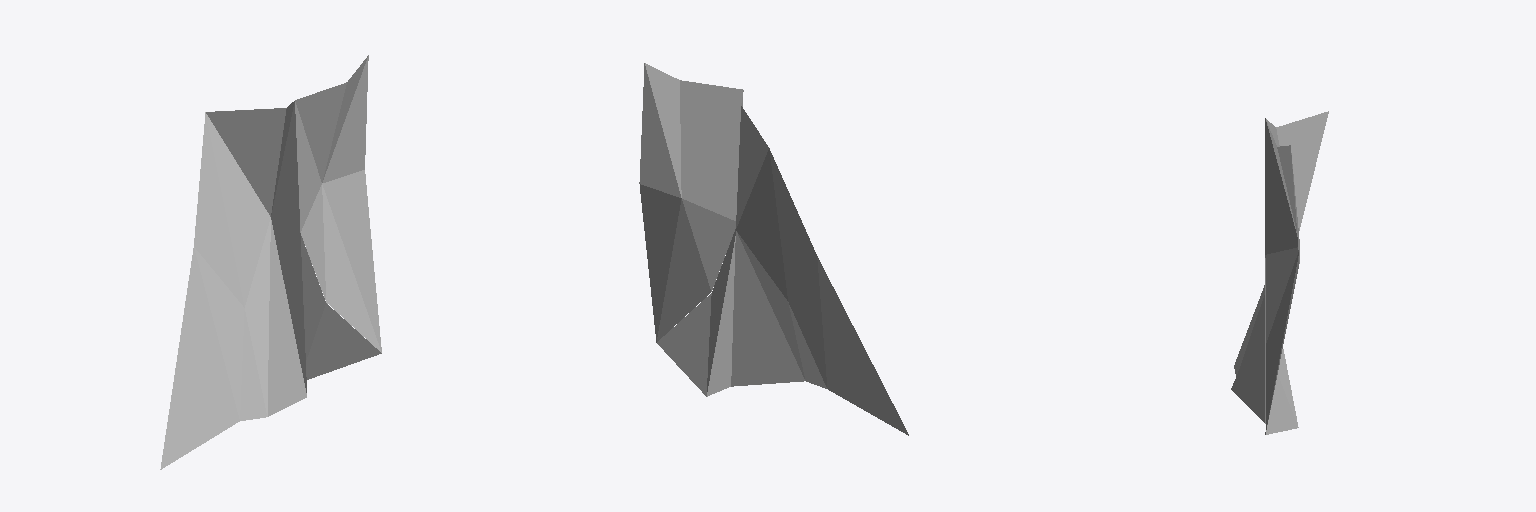
The model's file is Tissue.obj.
The picture shows the model from 3 angles: view 1: azimuth 30°, elevation 25°; view 2: azimuth 150°, elevation 25°; view 3: azimuth 270°, elevation 25°; orthographic projection.
Visible parts, largest first — view 1: Box_of_Tissue; view 2: Box_of_Tissue; view 3: Box_of_Tissue.
Part boxes in pixels (x1,y1,x2,y2): Box_of_Tissue: (160,55,381,469); Box_of_Tissue: (639,63,908,435); Box_of_Tissue: (1231,111,1328,434).
Size of the model in its own units: 0.2315 by 0.3135 by 0.083.